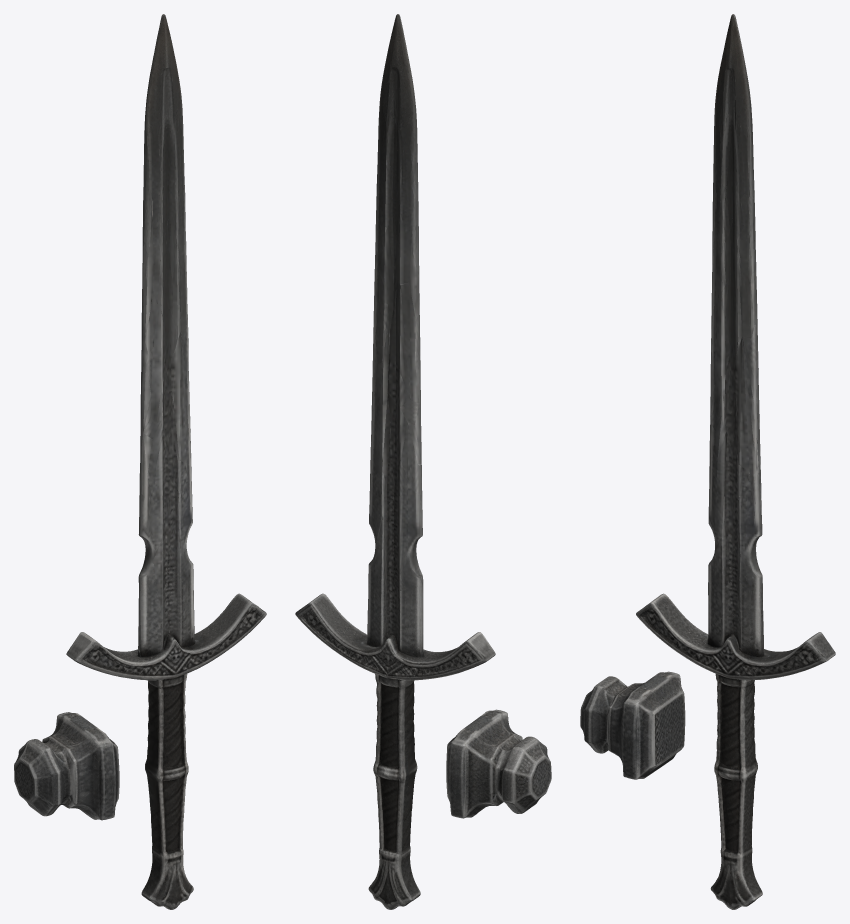
File: mec.glb
The picture shows the model from 3 angles, left to right: view 1: azimuth 30°, elevation 25°; view 2: azimuth 150°, elevation 25°; view 3: azimuth 330°, elevation 25°; orthographic projection.
Parts seen in each view (by area): view 1: Mesh_0; view 2: Mesh_0; view 3: Mesh_0.
Boxes of the visible parts, x1,y1,x2,y2 form: Mesh_0: (14,14,266,909); Mesh_0: (295,14,551,909); Mesh_0: (580,14,835,909).
Bounding box in the file's own units: 0.2955 × 1.05 × 0.1028.
1 material, 1 textured.
